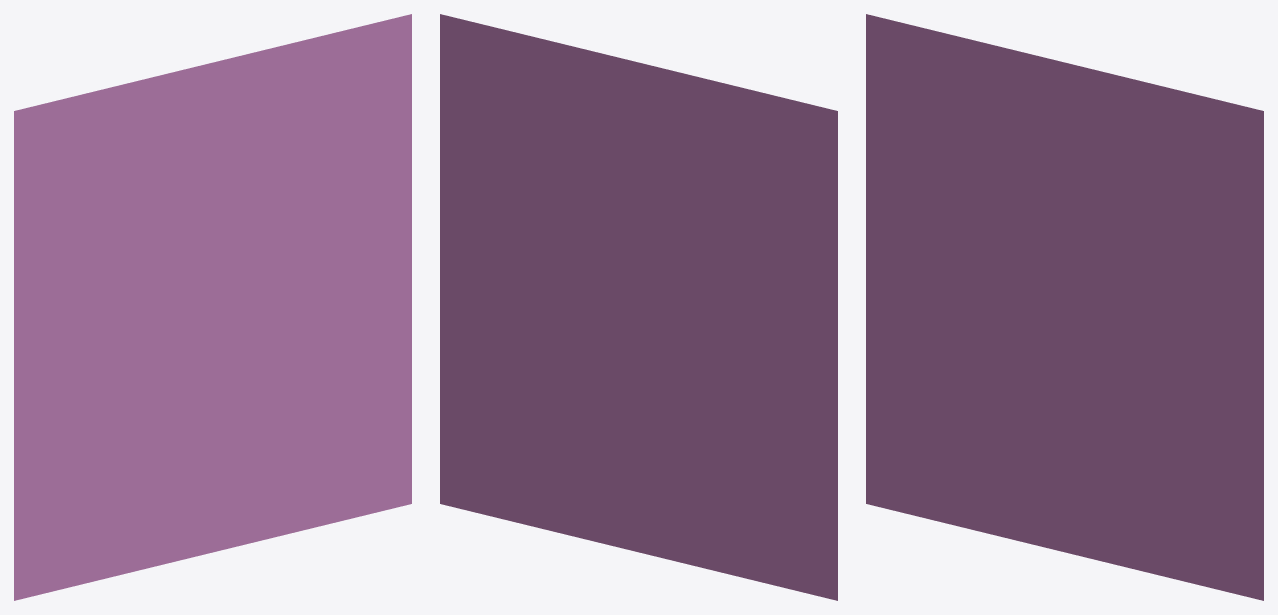
File: Itr_Wall_Half_Color_11.FBX
The picture shows the model from 3 angles, left to right: view 1: azimuth 30°, elevation 25°; view 2: azimuth 150°, elevation 25°; view 3: azimuth 330°, elevation 25°; orthographic projection.
Parts seen in each view (by area): view 1: Itr_Halfwall_Color_11; view 2: Itr_Halfwall_Color_11; view 3: Itr_Halfwall_Color_11.
Part boxes in pixels (x1,y1,x2,y2): Itr_Halfwall_Color_11: (14, 14, 411, 600); Itr_Halfwall_Color_11: (440, 14, 837, 600); Itr_Halfwall_Color_11: (866, 14, 1263, 600).
Size of the model in its own units: 59.06 by 69.48 by 1.53e-05.
